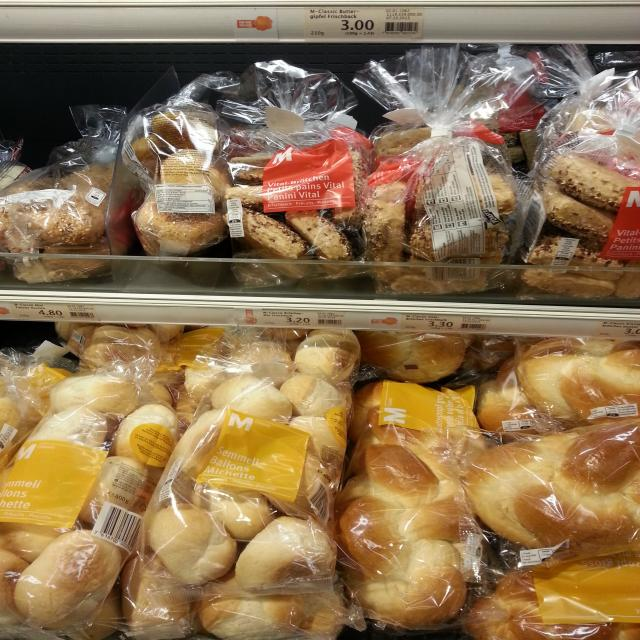Bakery: (0, 365, 180, 633), (131, 366, 347, 580), (347, 378, 478, 628), (362, 103, 512, 296), (464, 422, 640, 558), (226, 113, 359, 280), (515, 120, 640, 296), (113, 97, 228, 261), (472, 338, 640, 438), (0, 152, 117, 286), (467, 550, 640, 640)
